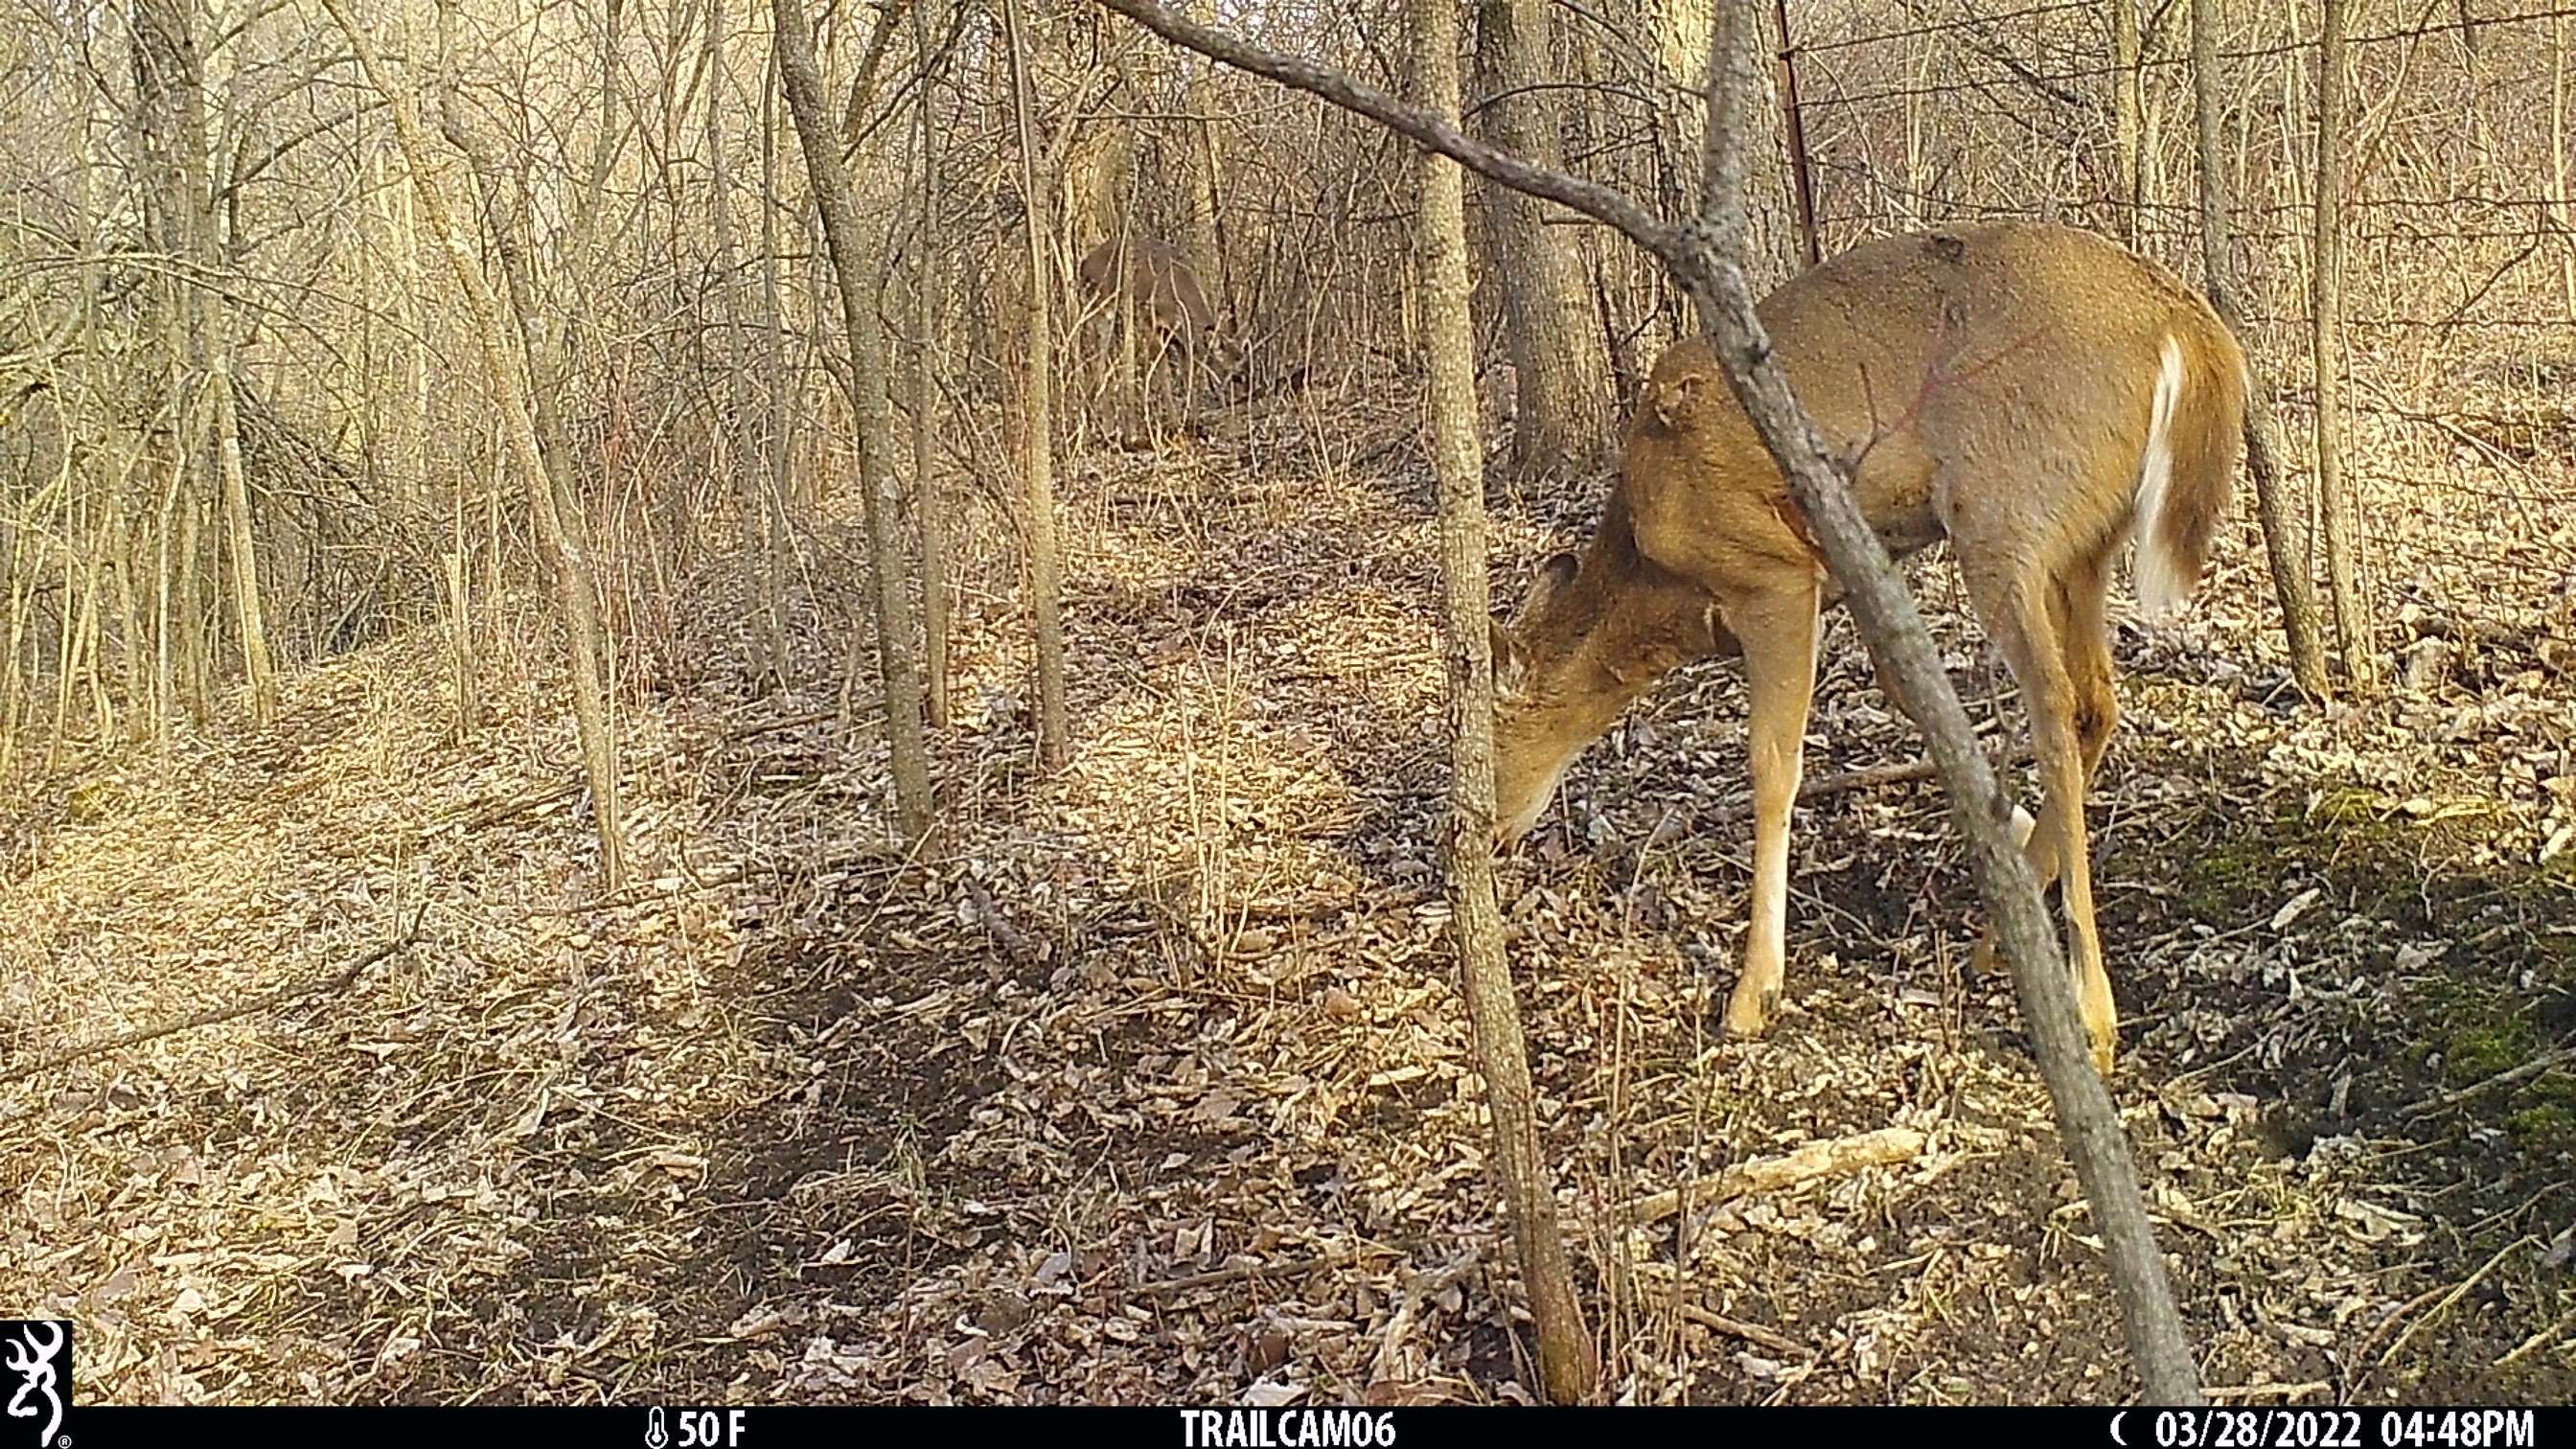Deer: (1486, 211, 2243, 1060), (1067, 225, 1246, 393)
